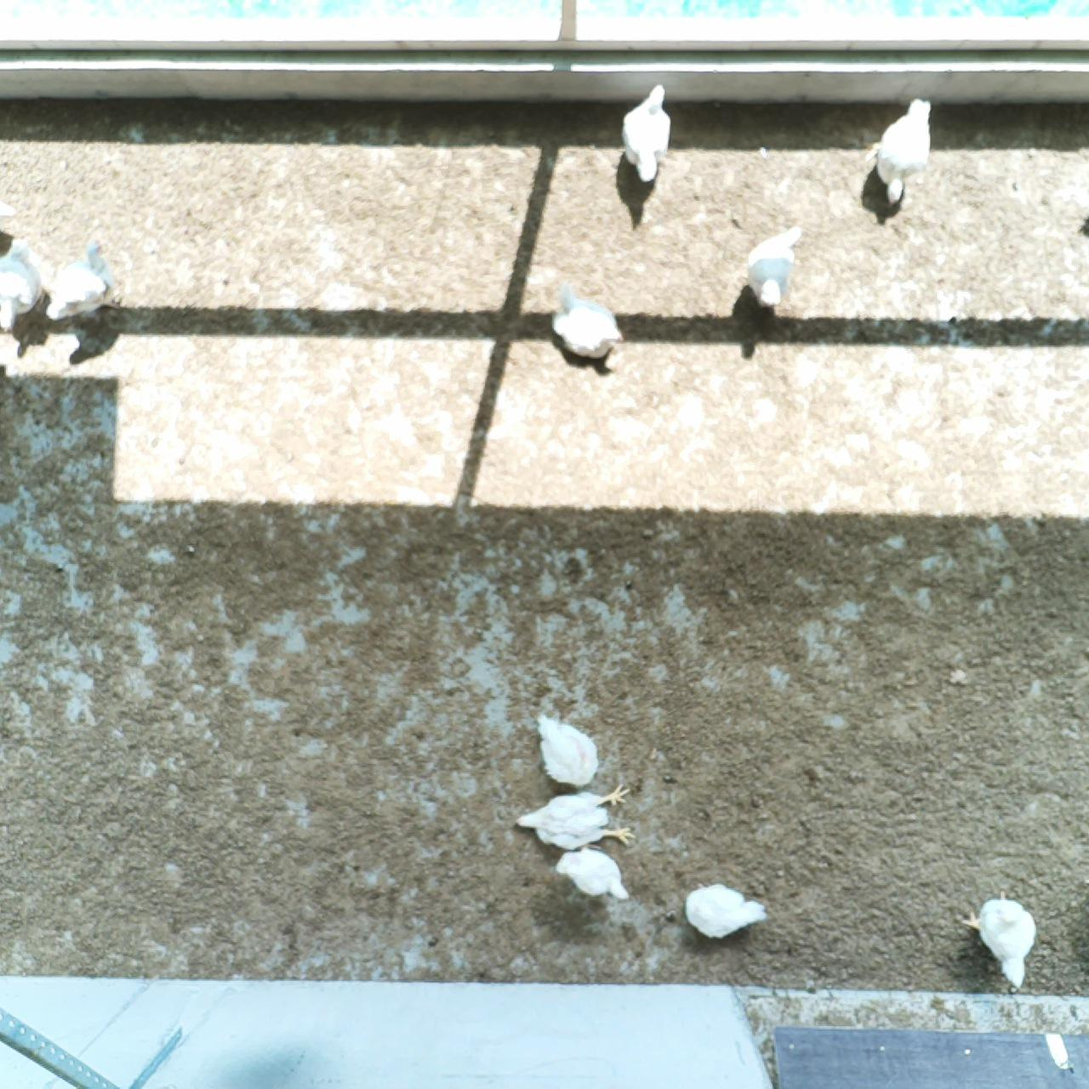chicken: (513, 780, 637, 853), (956, 885, 1039, 992), (865, 97, 937, 210), (42, 237, 123, 328), (616, 79, 677, 187), (549, 282, 627, 363), (741, 221, 807, 312), (532, 709, 601, 791), (681, 879, 770, 941), (552, 843, 632, 906)
